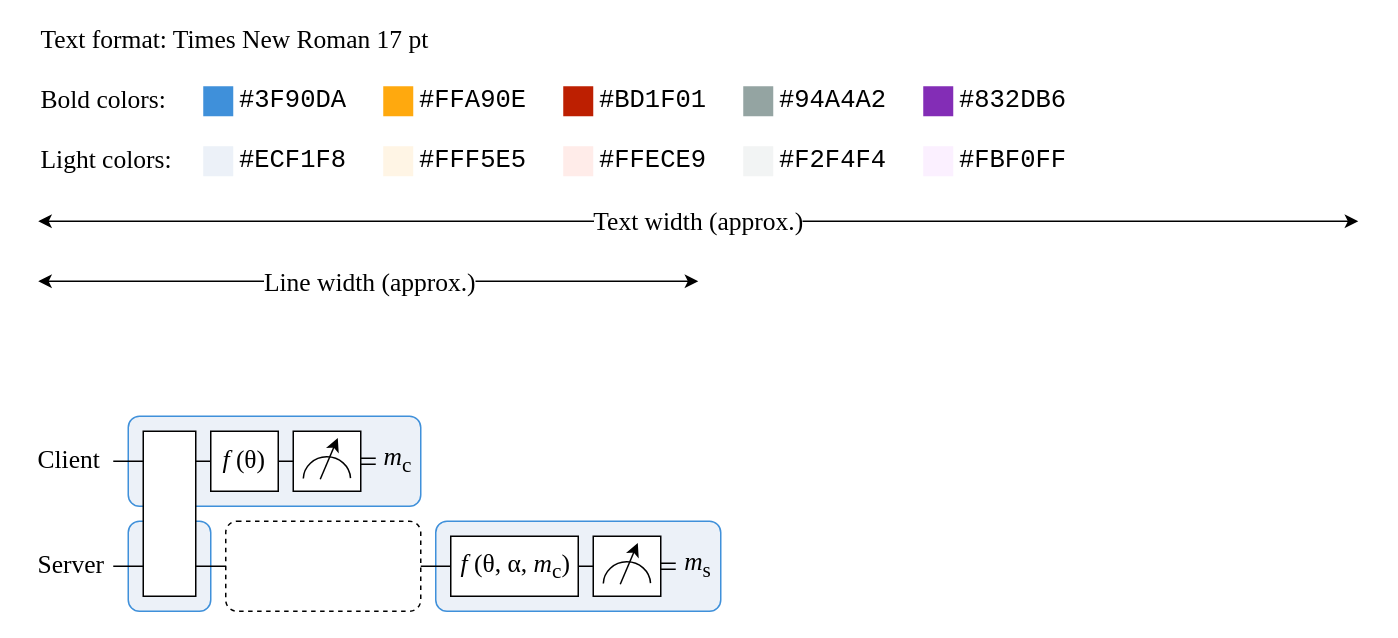
Some shapes in this 1398 by 638 pixel diagram are drawn without their labels. The shapes that lost their labels are listed below. From the top down, each one's centre as x and y in pixels, then its label:
point (169, 513): Entangle
point (322, 565): Wait for m c
